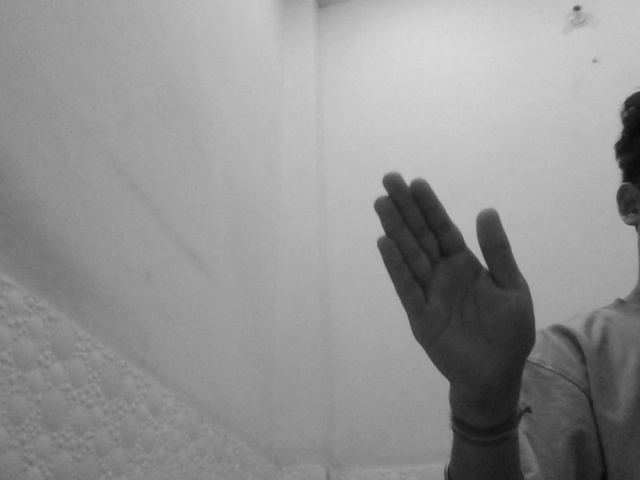Hello: (365, 165, 553, 413)
